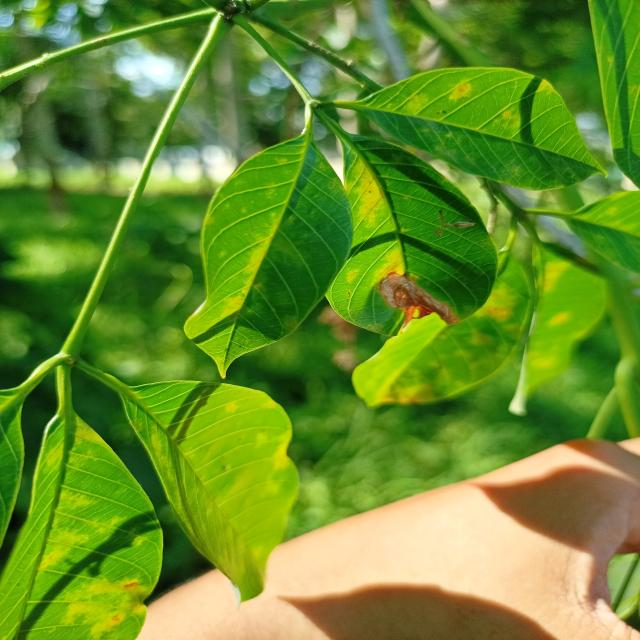Leaf-Blight: (378, 271, 459, 326)
